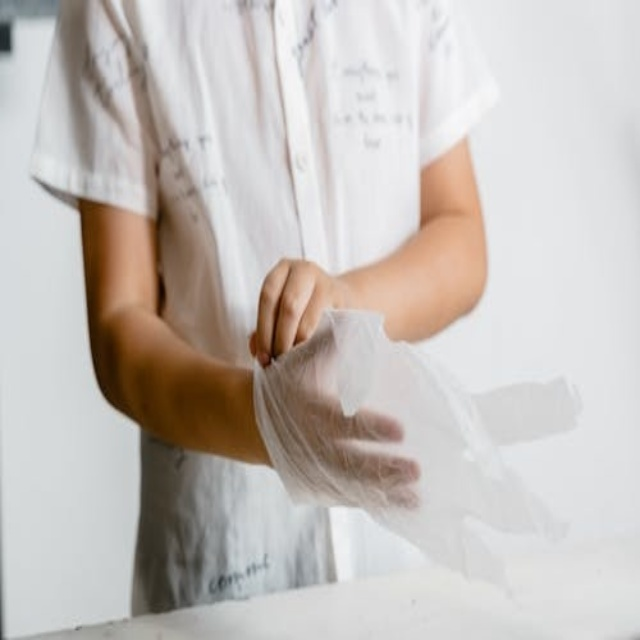Guantes: (253, 294, 425, 530)
Sin_guantes: (251, 248, 355, 365)
